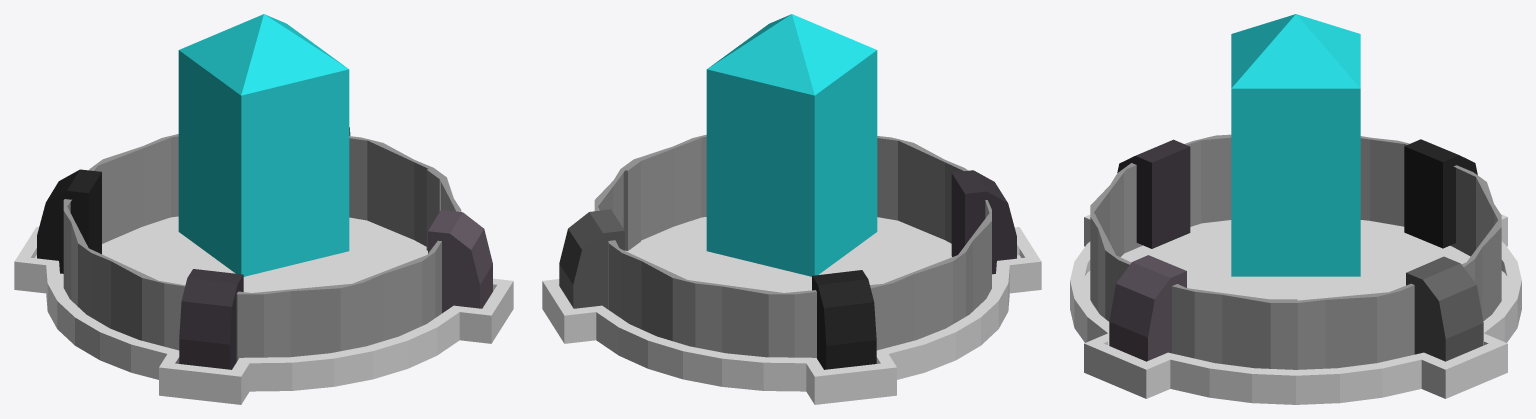
The model's file is turret.fbx.
The picture shows the model from 3 angles, left to right: view 1: azimuth 30°, elevation 25°; view 2: azimuth 150°, elevation 25°; view 3: azimuth 270°, elevation 25°; orthographic projection. The views are drawn at different scales.
Visible parts, largest first — view 1: 코어, 옆벽면, 밑둥, 벽구조2, 벽구조3, 벽구조4; view 2: 코어, 옆벽면, 밑둥, 벽구조4, 벽구조, 벽구조2; view 3: 옆벽면, 코어, 밑둥, 벽구조, 벽구조3, 벽구조2, 벽구조4.
Part boxes in pixels (x1,y1,x2,y2): 코어: (178,14,349,276); 옆벽면: (63,134,461,363); 밑둥: (14,216,513,404); 벽구조2: (179,269,243,369); 벽구조3: (428,210,492,313); 벽구조4: (37,169,101,273); 코어: (706,14,877,276); 옆벽면: (594,134,991,363); 밑둥: (542,217,1041,404); 벽구조4: (812,270,876,369); 벽구조: (559,209,624,309); 벽구조2: (951,170,1016,274); 옆벽면: (1090,134,1501,369); 코어: (1231,14,1360,276); 밑둥: (1070,214,1521,404); 벽구조: (1406,256,1483,361); 벽구조3: (1109,255,1186,361); 벽구조2: (1117,139,1190,248); 벽구조4: (1404,139,1477,248).
Size of the model in its own units: 700 by 505 by 700.
